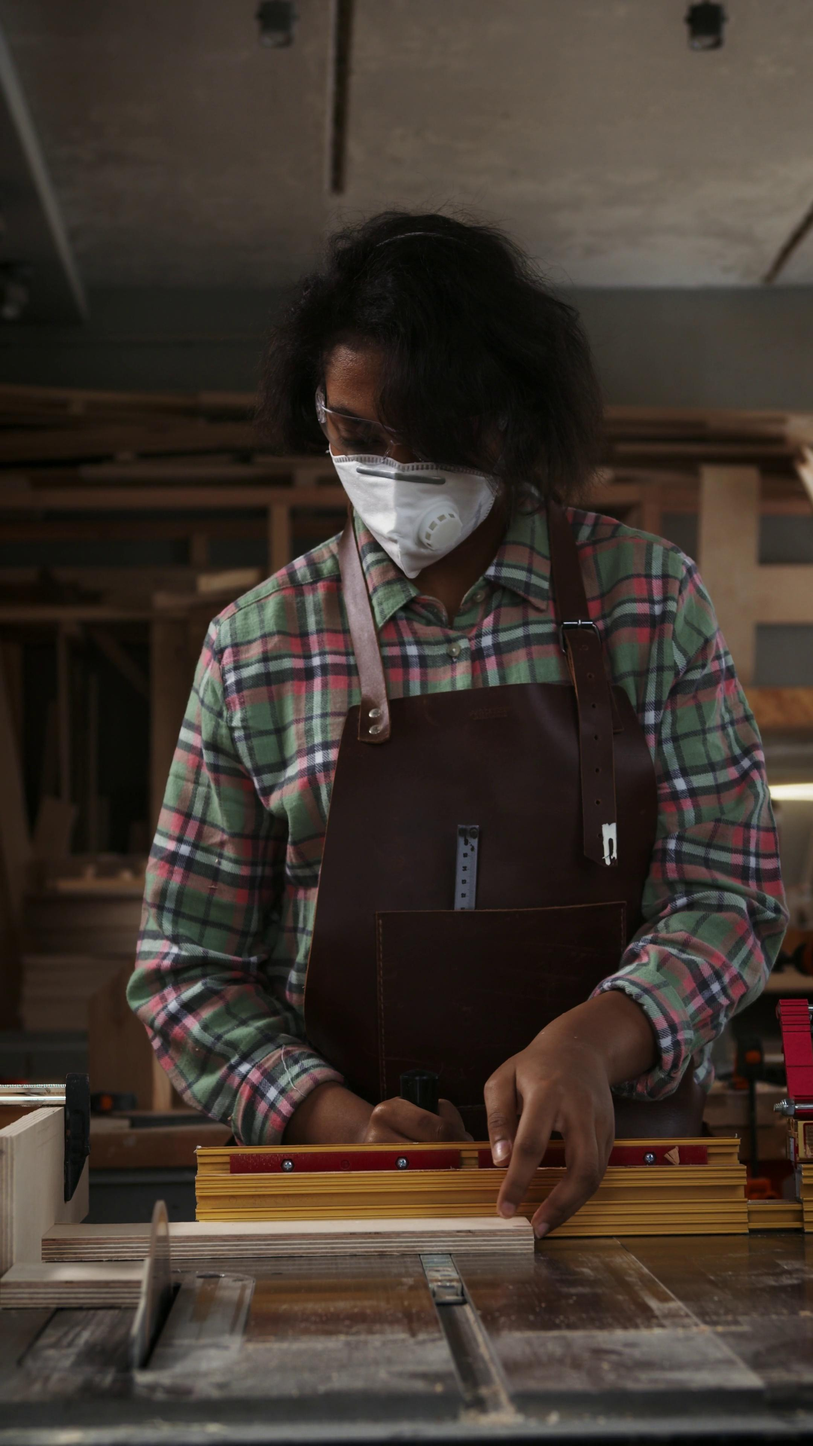mask: (325, 448, 500, 580)
person: (121, 204, 790, 1240)
